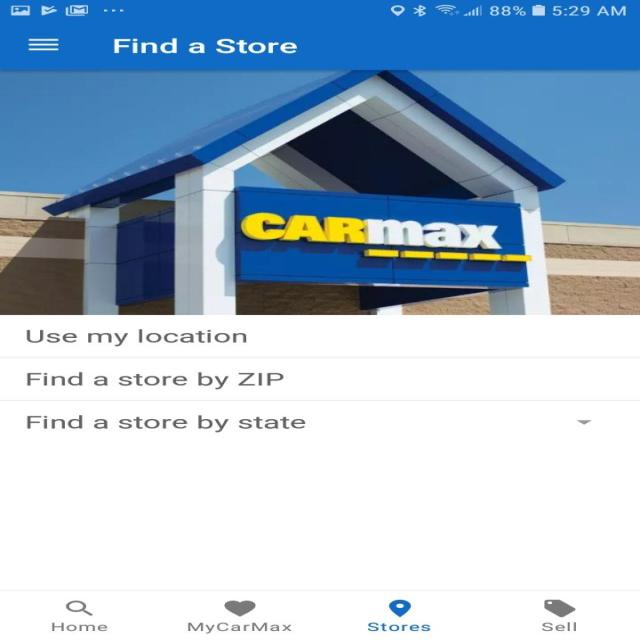Icon: (543, 598, 576, 617), (223, 600, 256, 616), (66, 600, 94, 616), (27, 38, 59, 51), (388, 599, 411, 617), (575, 419, 592, 425)
Image: (0, 70, 639, 315)
Text: (26, 414, 306, 432), (27, 372, 284, 389), (25, 328, 246, 346), (113, 37, 297, 54), (188, 621, 292, 634), (367, 621, 430, 631), (51, 621, 108, 631), (541, 621, 576, 631)
